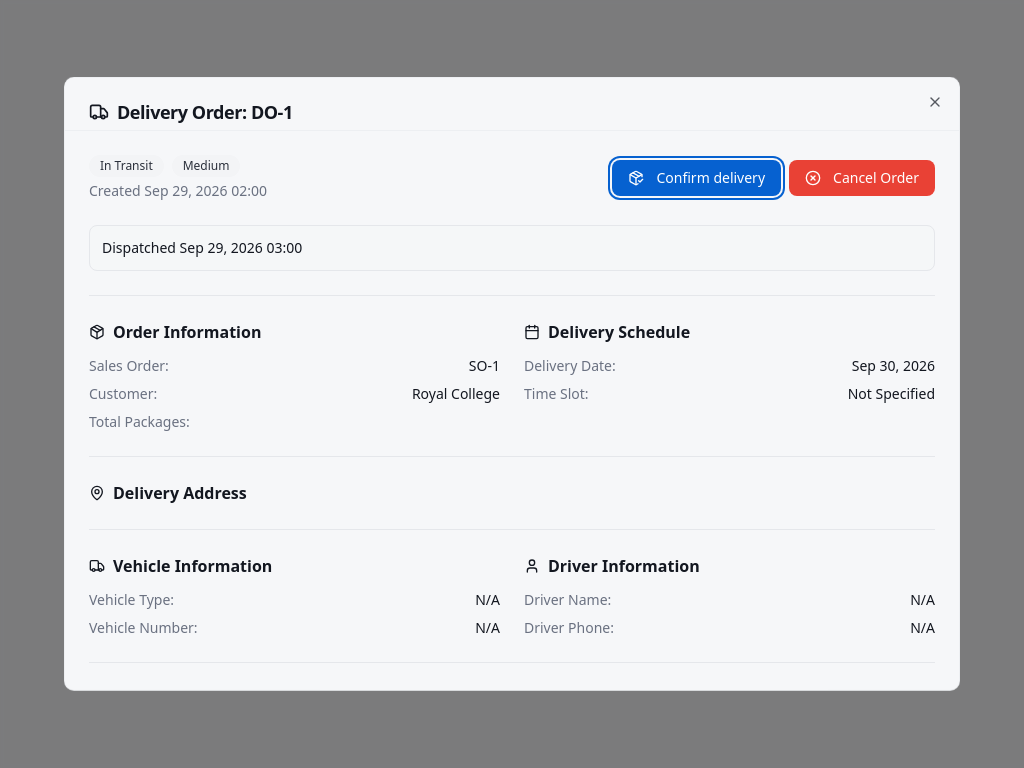
Test: Delivery order: dispatch and confirm delivery › confirming records who received it and what arrived
Later steps or results of the test are not shown.
Expected: the text "Dispatched Sep 29, 2026 03:00" is shown, [102,238,302,257]
Click the button "Confirm delivery".
click(697, 178)  # box [612,160,781,196]
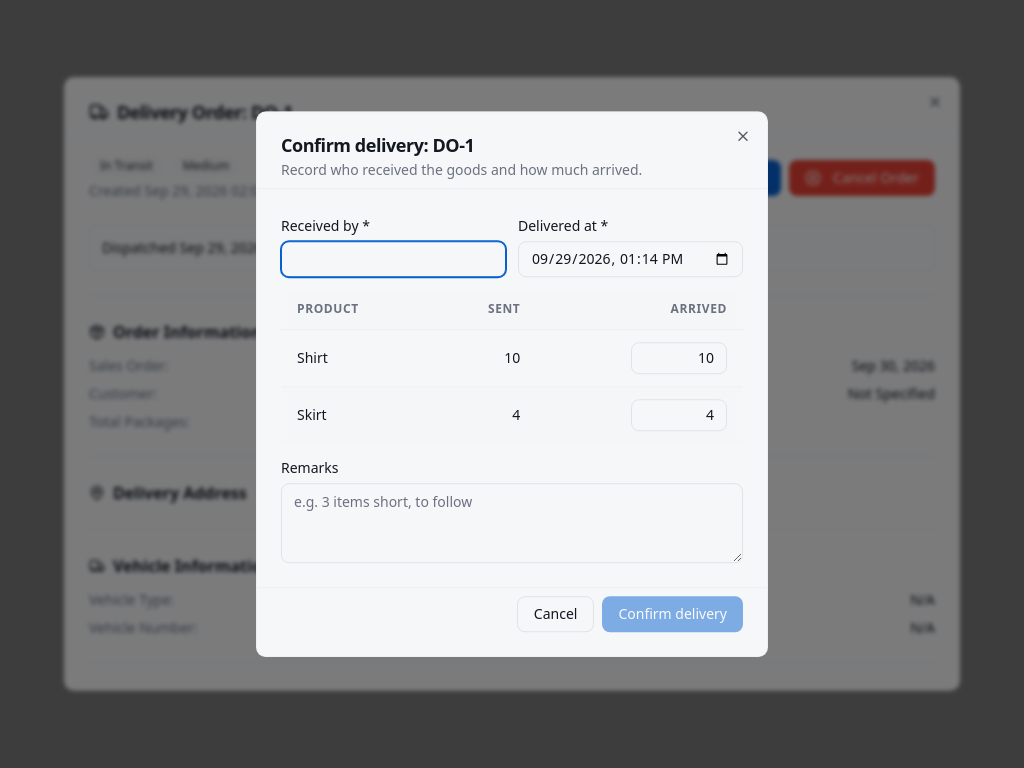
Expected: the button "Confirm delivery" is disabled, [602,596,743,632]
Type "Principal" into the field labelled "Received by *".
click(394, 259); type("Principal")  # box [281,241,506,277]
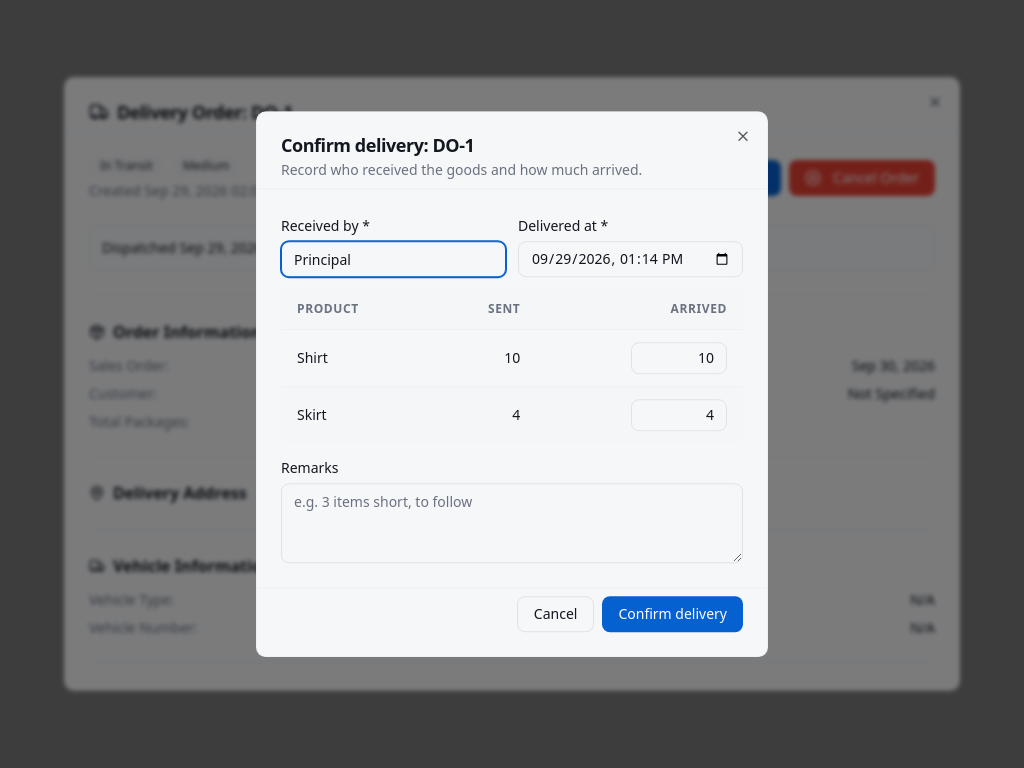
Clear the field named "quantity of skirt delivered" at [679, 415], box [631,399,727,431]
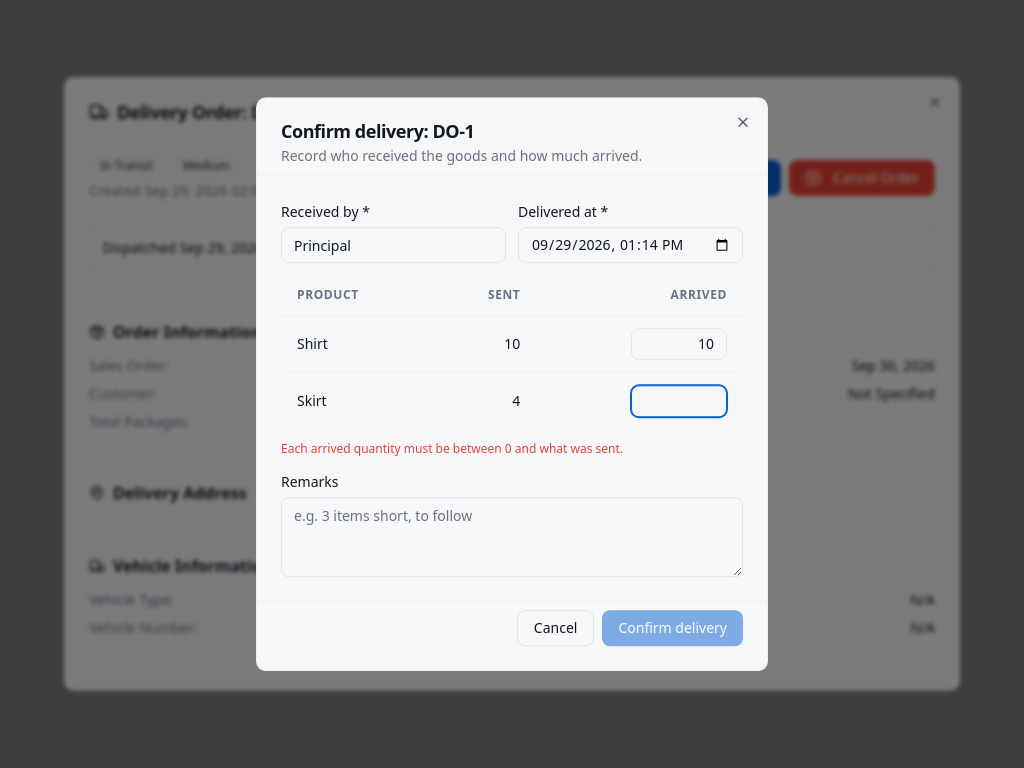
Type "5" into the field named "quantity of skirt delivered".
click(679, 401); type("5")  # box [631,385,727,417]
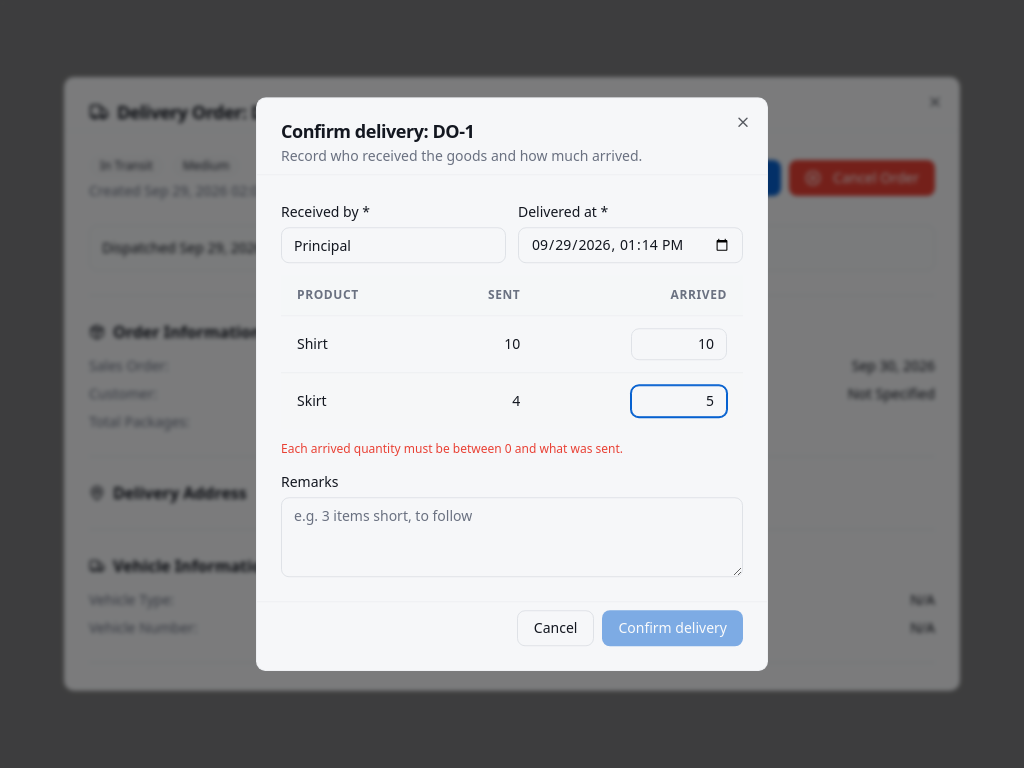
Expected: the text "Each arrived quantity must be between 0 and what was sent." is shown, [281,440,623,457]
Expected: the button "Confirm delivery" is disabled, [602,610,743,646]
